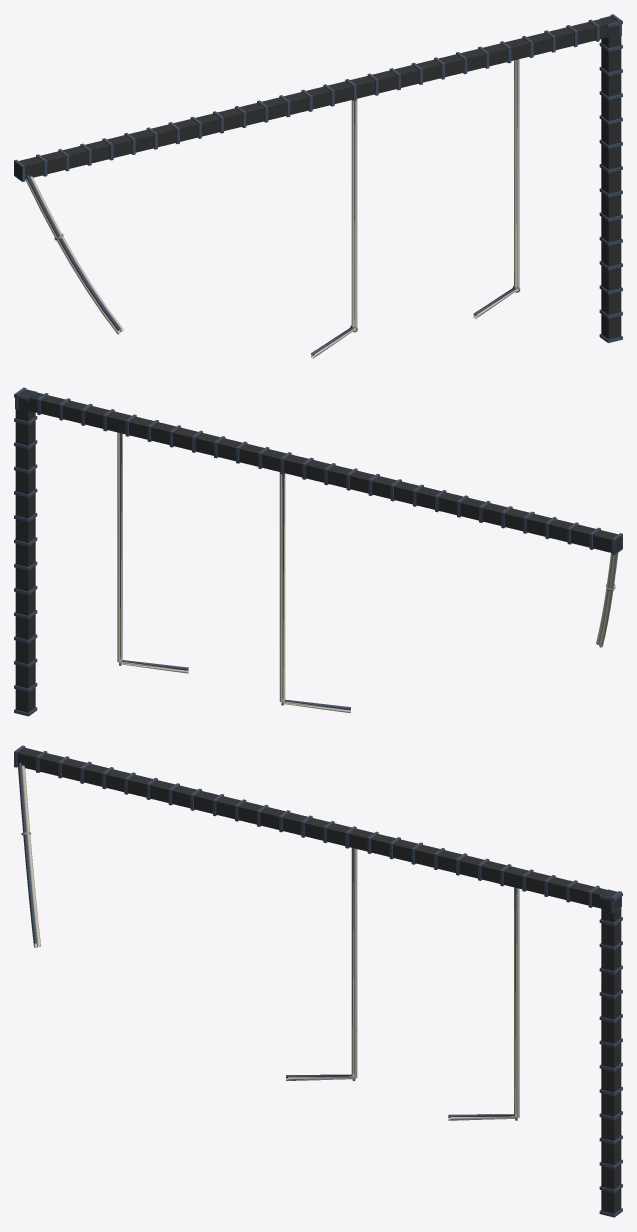
File: ms1_duct.obj
3 views of the same model, one above another, from view 1: azimuth 30°, elevation 25°; view 2: azimuth 150°, elevation 25°; view 3: azimuth 330°, elevation 25° (orthographic).
Visible parts, largest first — view 1: ms1_duct; view 2: ms1_duct; view 3: ms1_duct.
Boxes of the visible parts, left/top/right/bottom form: ms1_duct: left=14, top=14, right=622, bottom=358; ms1_duct: left=14, top=387, right=622, bottom=716; ms1_duct: left=14, top=745, right=622, bottom=1217.
Bounding box in the file's own units: 6.65 × 3.38 × 0.8987.
